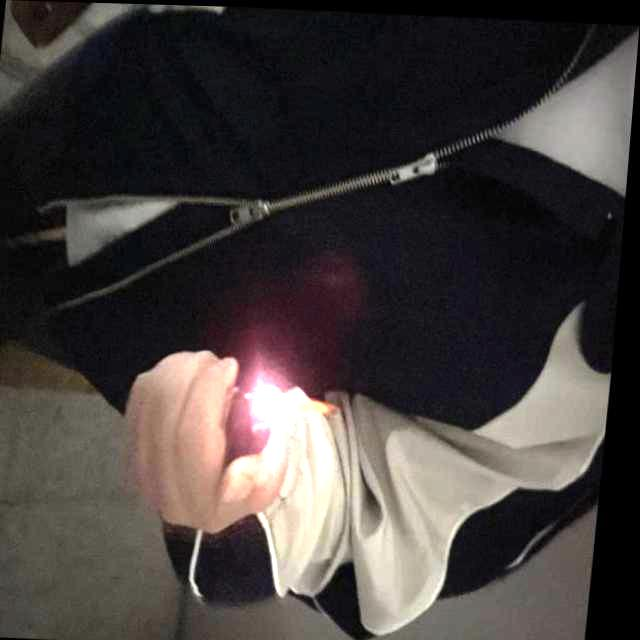fire: (261, 384, 347, 416)
